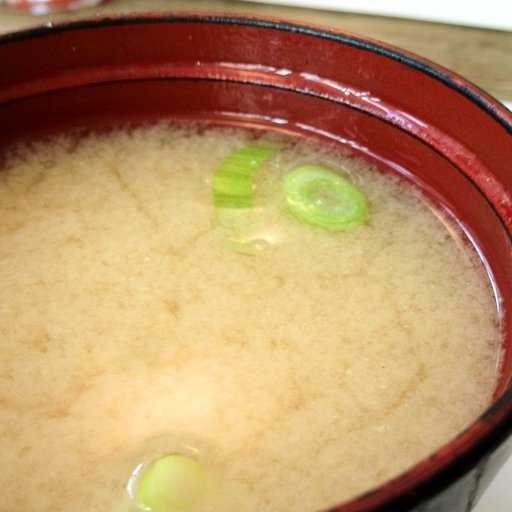soup: (8, 10, 507, 509)
